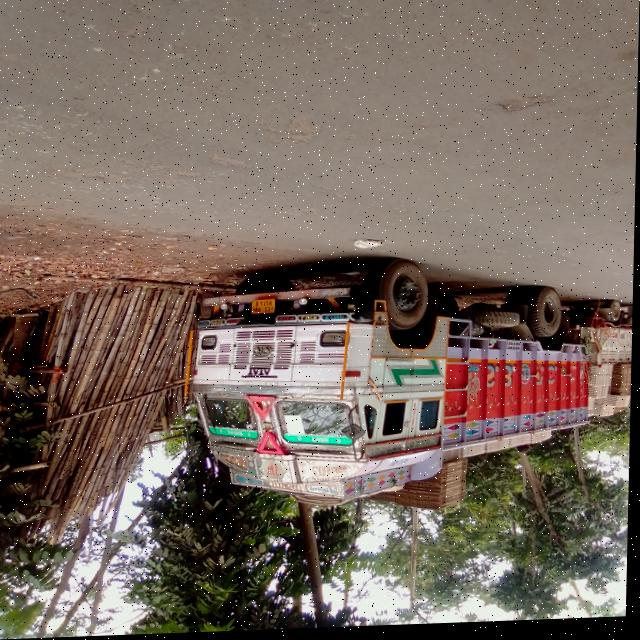plate: (252, 301, 277, 316)
